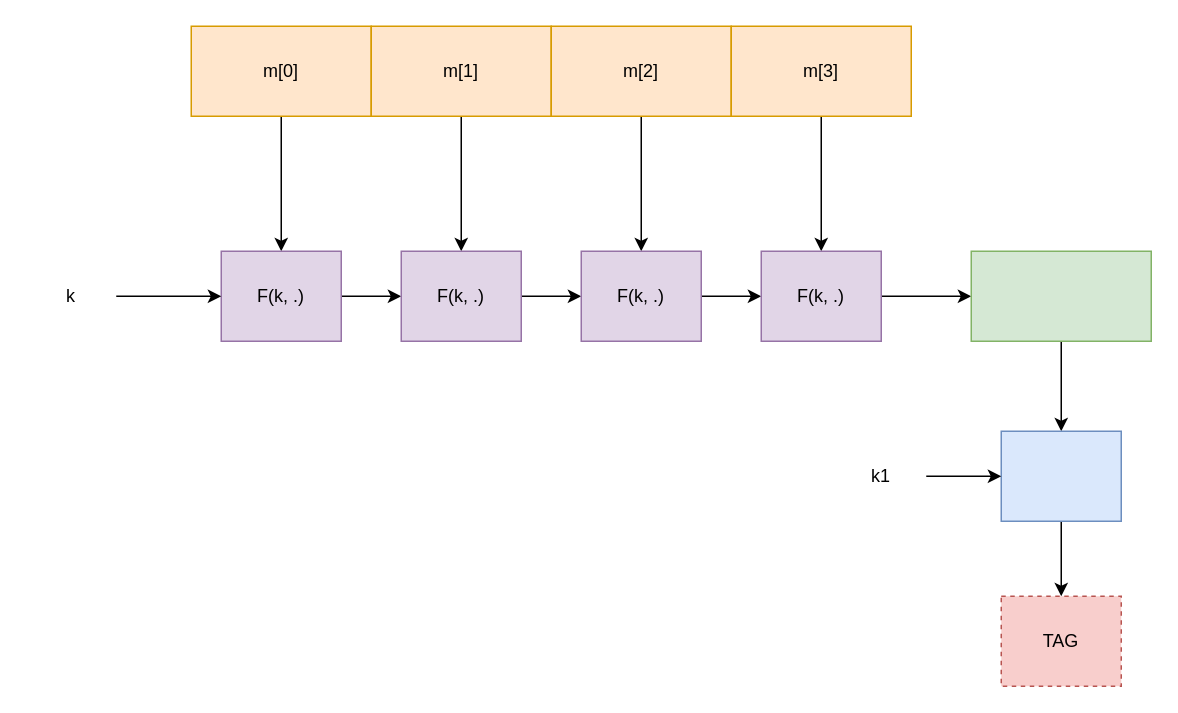
The diagram is 1178 pixels wide and 713 high, and some of its shapes have lost their labels. Here are the shapes that lost their labels. From the top down, the box of each, then its label:
(970, 250, 1151, 341): t || pad
(1000, 430, 1121, 521): F(k1, .)
